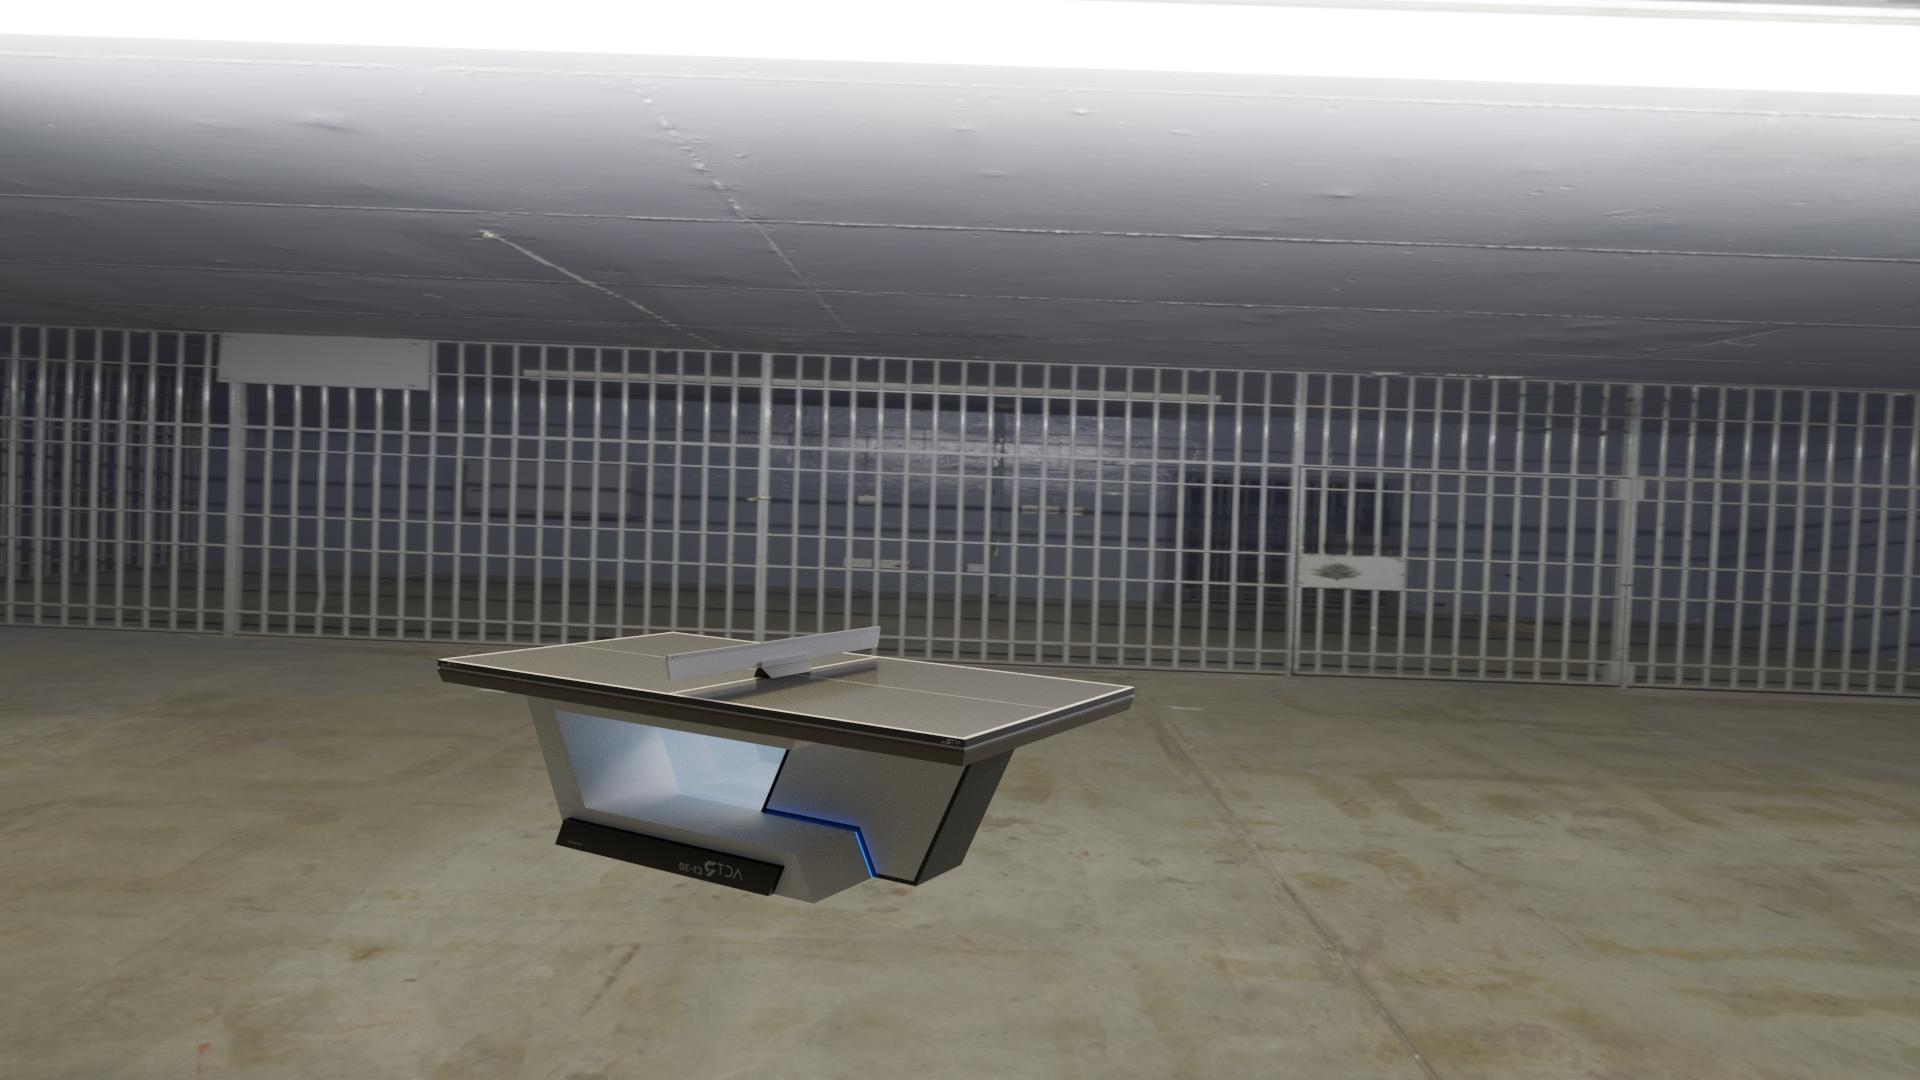table: (444, 633, 1129, 737)
